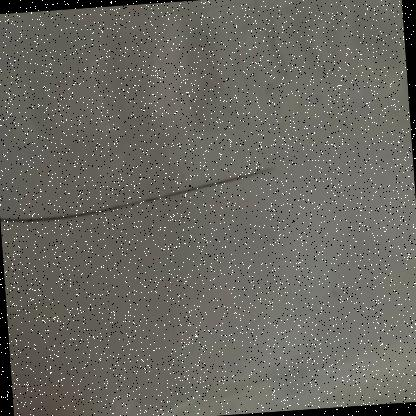Crack: (0, 134, 283, 235)
